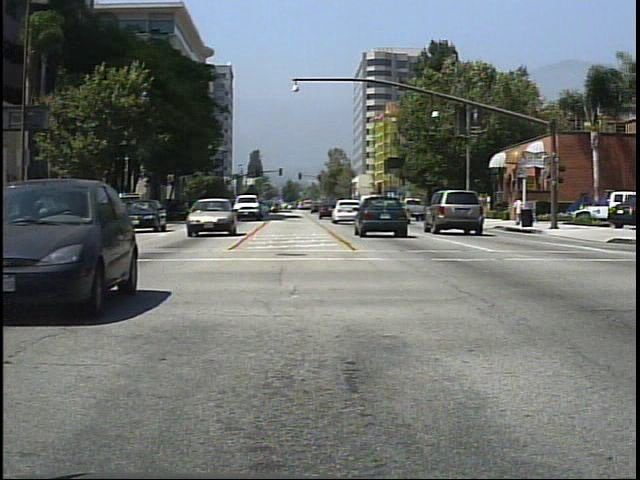person: (477, 190, 495, 225), (511, 195, 524, 229)
